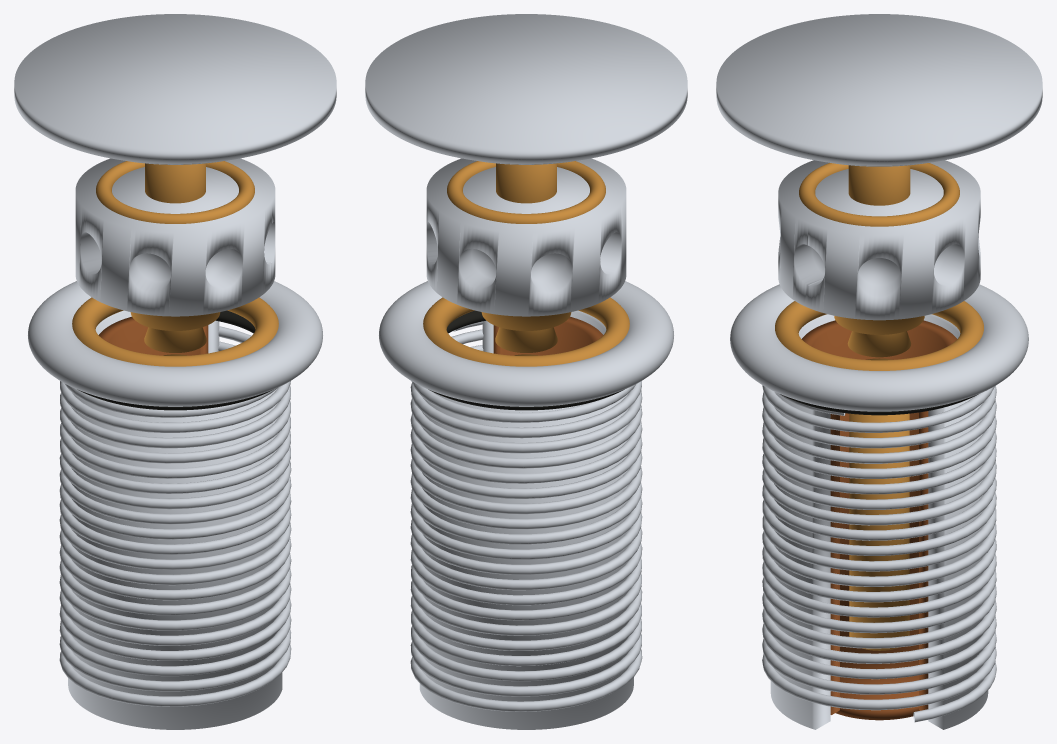
Rendered from pop_up_drain_final_animation.glb.
3 views of the same model, side by side, from view 1: azimuth 30°, elevation 25°; view 2: azimuth 150°, elevation 25°; view 3: azimuth 270°, elevation 25° (orthographic).
Parts seen in each view (by area): view 1: Drain_External_Threads, Stopper_Cap, Drain_Body, Pivot_Collar, Drain_Flange, Flange_Inner_Rim, Pivot_Collar_Inner_Ring, Actuator_Shaft, Brass_Inner_Body, Stopper_Tip, Brass_Neck, Rubber_Gasket; view 2: Drain_External_Threads, Stopper_Cap, Drain_Body, Pivot_Collar, Drain_Flange, Flange_Inner_Rim, Pivot_Collar_Inner_Ring, Actuator_Shaft, Brass_Inner_Body, Stopper_Tip, Brass_Neck, Rubber_Gasket; view 3: Drain_External_Threads, Stopper_Cap, Pivot_Collar, Drain_Flange, Drain_Body, Brass_Inner_Body, Internal_Brass_Core, Flange_Inner_Rim, Pivot_Collar_Inner_Ring, Actuator_Shaft, Brass_Bottom, Stopper_Tip (+2 smaller).
Boxes of the visible parts, box(x1,y1,x2,y2) form: Drain_External_Threads: box(59, 326, 291, 706); Stopper_Cap: box(14, 14, 336, 164); Drain_Body: box(68, 310, 282, 729); Pivot_Collar: box(75, 158, 275, 316); Drain_Flange: box(28, 281, 322, 406); Flange_Inner_Rim: box(72, 297, 278, 366); Pivot_Collar_Inner_Ring: box(96, 161, 254, 223); Actuator_Shaft: box(145, 163, 205, 203); Brass_Inner_Body: box(98, 316, 208, 355); Stopper_Tip: box(144, 327, 206, 352); Brass_Neck: box(130, 312, 220, 330); Rubber_Gasket: box(77, 310, 273, 410); Drain_External_Threads: box(410, 321, 642, 711); Stopper_Cap: box(365, 14, 687, 164); Drain_Body: box(419, 310, 633, 729); Pivot_Collar: box(426, 158, 626, 316); Drain_Flange: box(379, 281, 673, 406); Flange_Inner_Rim: box(423, 297, 629, 366); Pivot_Collar_Inner_Ring: box(447, 161, 605, 223); Actuator_Shaft: box(496, 163, 556, 203); Brass_Inner_Body: box(493, 316, 603, 355); Stopper_Tip: box(495, 327, 557, 352); Brass_Neck: box(481, 312, 571, 330); Rubber_Gasket: box(428, 310, 624, 410); Drain_External_Threads: box(762, 385, 996, 722); Stopper_Cap: box(716, 14, 1042, 165); Pivot_Collar: box(778, 160, 980, 320); Drain_Flange: box(730, 284, 1028, 411); Drain_Body: box(770, 314, 988, 729); Brass_Inner_Body: box(802, 320, 956, 714); Internal_Brass_Core: box(849, 358, 909, 650); Flange_Inner_Rim: box(775, 301, 983, 370); Pivot_Collar_Inner_Ring: box(799, 163, 959, 226); Actuator_Shaft: box(848, 165, 910, 205); Brass_Bottom: box(835, 653, 919, 720); Stopper_Tip: box(847, 331, 911, 357).
Size of what is drawn, in the model's own units: 2.16 by 4.46 by 2.16.
